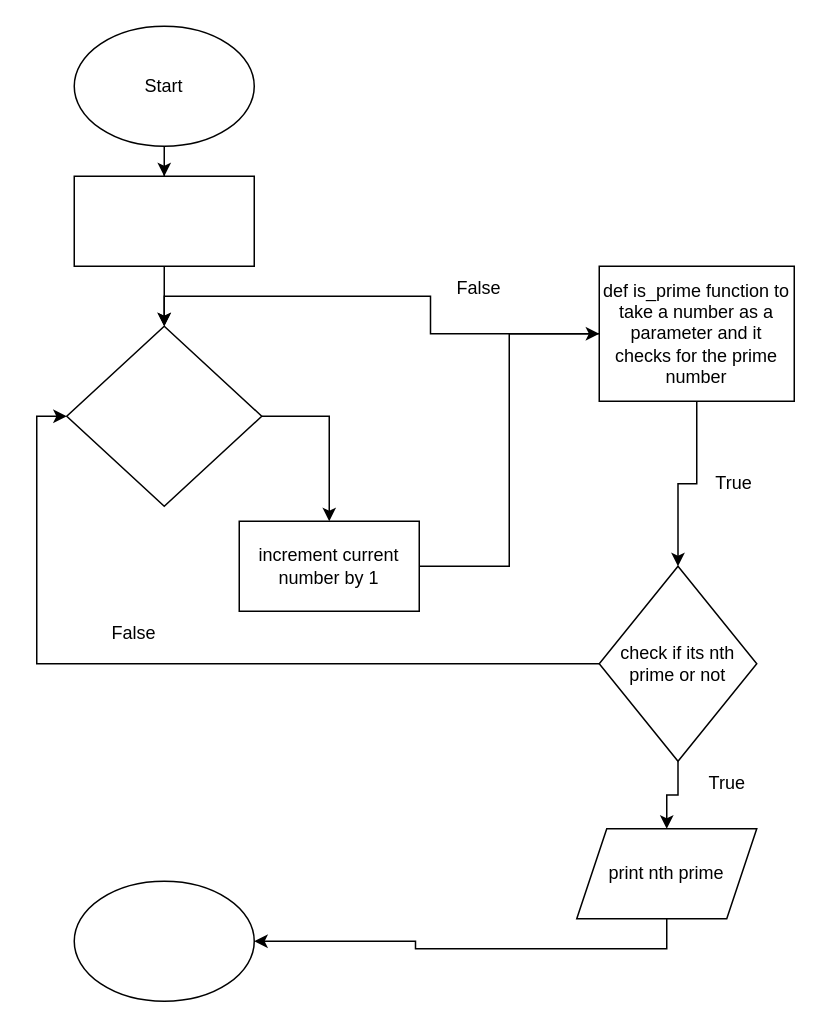
Image size: 821x1028. Some labels were removed from this diagram. Here are the shapes that lost their labels. From the top down, the box of each, then its label:
(73, 175, 254, 266): get an input from user about the nth prime number
(65, 325, 262, 506): loop infinite until we get nth prime number
(73, 880, 254, 1001): End
